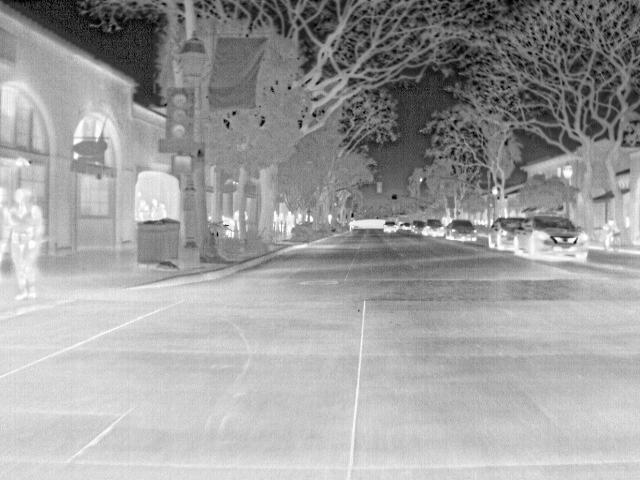car: (515, 214, 591, 266), (488, 218, 527, 253), (446, 219, 478, 242), (423, 220, 446, 238), (382, 220, 399, 236), (414, 220, 428, 234), (401, 220, 414, 232)
person: (7, 189, 47, 299), (601, 218, 622, 252), (285, 207, 298, 239), (150, 198, 165, 218), (137, 199, 149, 219)
